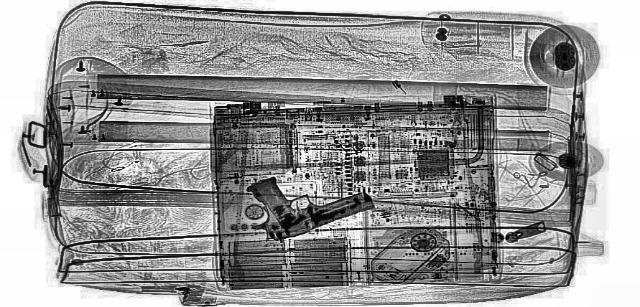Gun: (198, 160, 388, 241)
